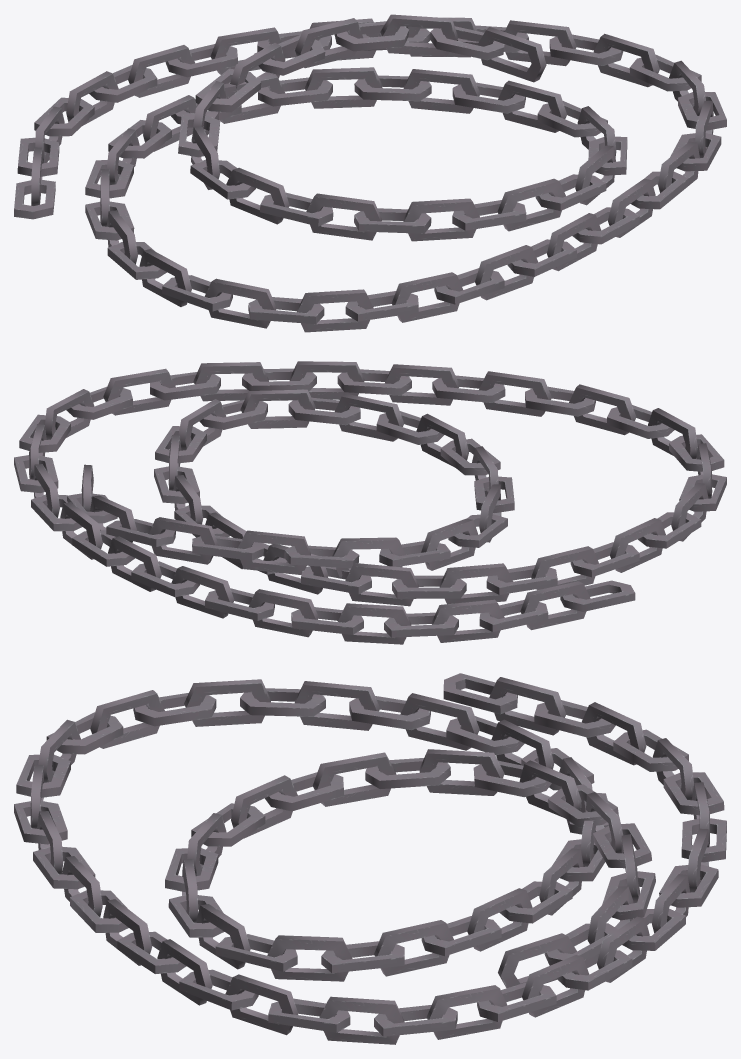
The model's file is Chain_Coil.glb.
3 renders of one model, top to bottom at view 1: azimuth 30°, elevation 25°; view 2: azimuth 150°, elevation 25°; view 3: azimuth 270°, elevation 25°, orthographic. The views are drawn at different scales.
Visible parts, largest first — view 1: Chain_Coil; view 2: Chain_Coil; view 3: Chain_Coil.
Boxes of the visible parts, box(x1,y1,x2,y2) form: Chain_Coil: box(14, 14, 726, 332); Chain_Coil: box(14, 361, 726, 644); Chain_Coil: box(14, 673, 726, 1044).
Bounding box in the file's own units: 1.07 × 0.0871 × 0.9078.
1 material, 1 textured.
